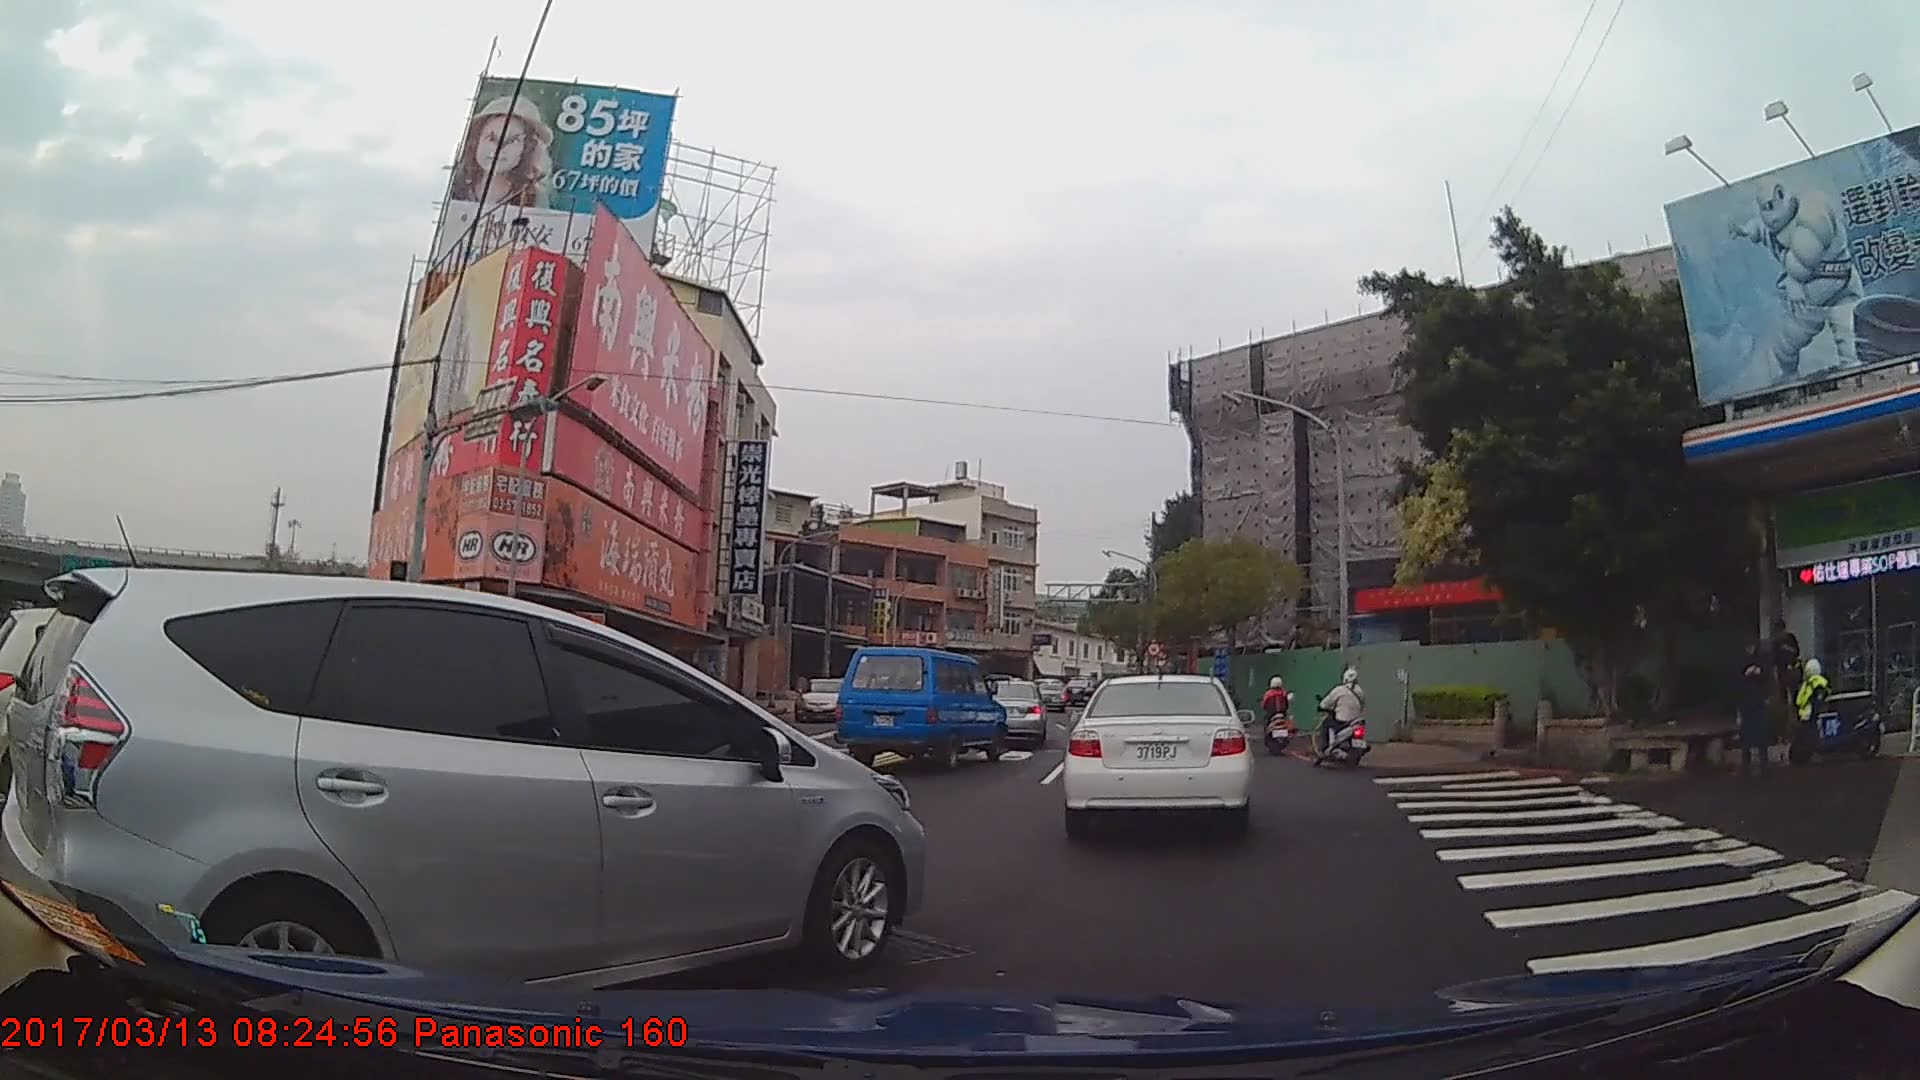pedestrian: (1733, 638, 1778, 770), (1765, 618, 1802, 725)
rider: (1316, 665, 1375, 764), (1261, 673, 1297, 751)
vehicle: (1, 566, 930, 1017), (1063, 670, 1256, 834), (834, 643, 1008, 766), (977, 678, 1048, 746), (793, 674, 856, 724)
